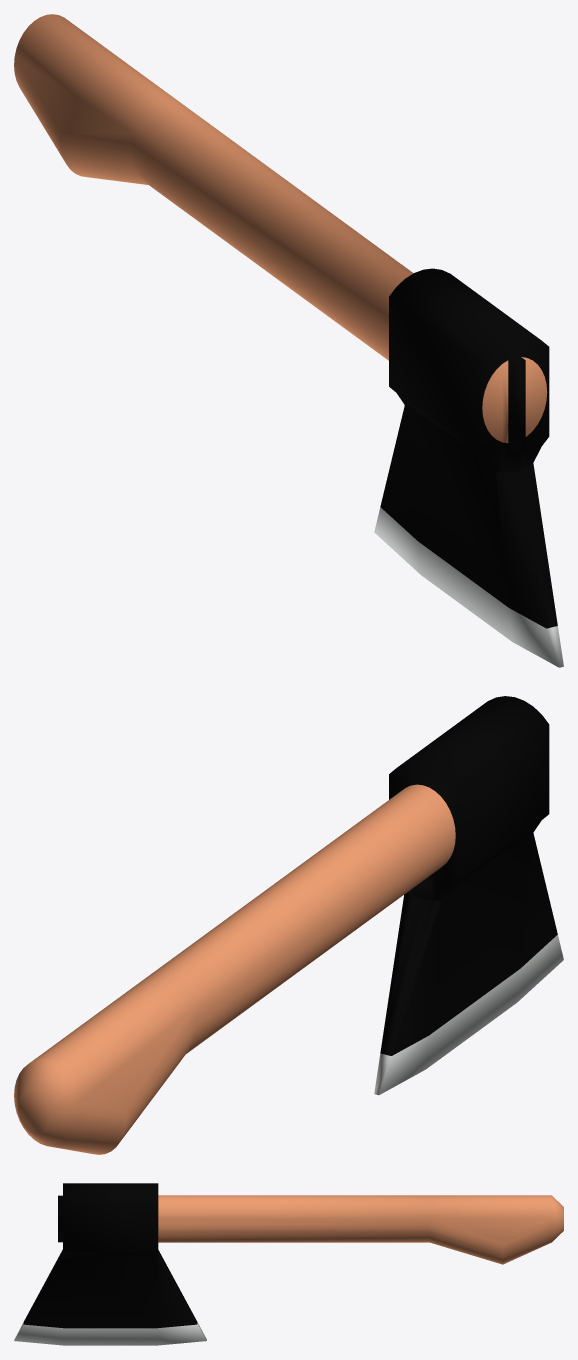
Rendered from axe.fbx.
3 renders of one model, top to bottom at view 1: azimuth 30°, elevation 25°; view 2: azimuth 150°, elevation 25°; view 3: azimuth 270°, elevation 25°, orthographic. The views are drawn at different scales.
Parts seen in each view (by area): view 1: Cylinder; view 2: Cylinder; view 3: Cylinder.
Part boxes in pixels (x1,y1,x2,y2): Cylinder: (14, 14, 563, 667); Cylinder: (14, 696, 563, 1154); Cylinder: (14, 1183, 563, 1345).
Size of the model in its own units: 170 by 719 by 2250.
